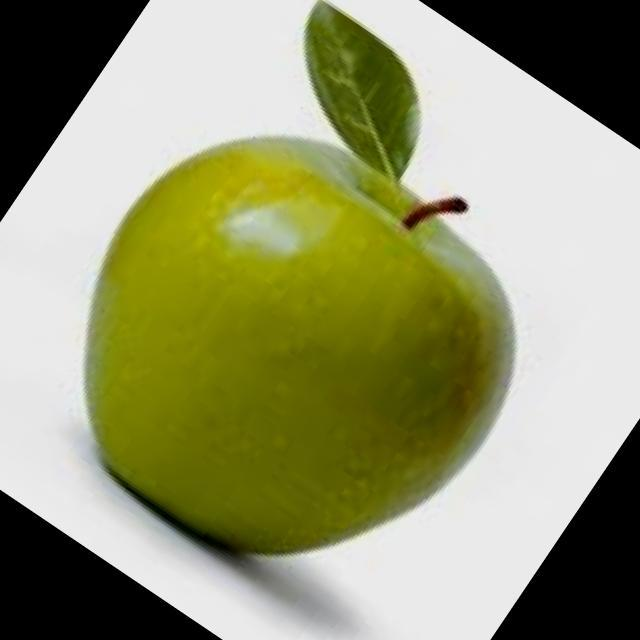Green Apple: (81, 136, 517, 561)
